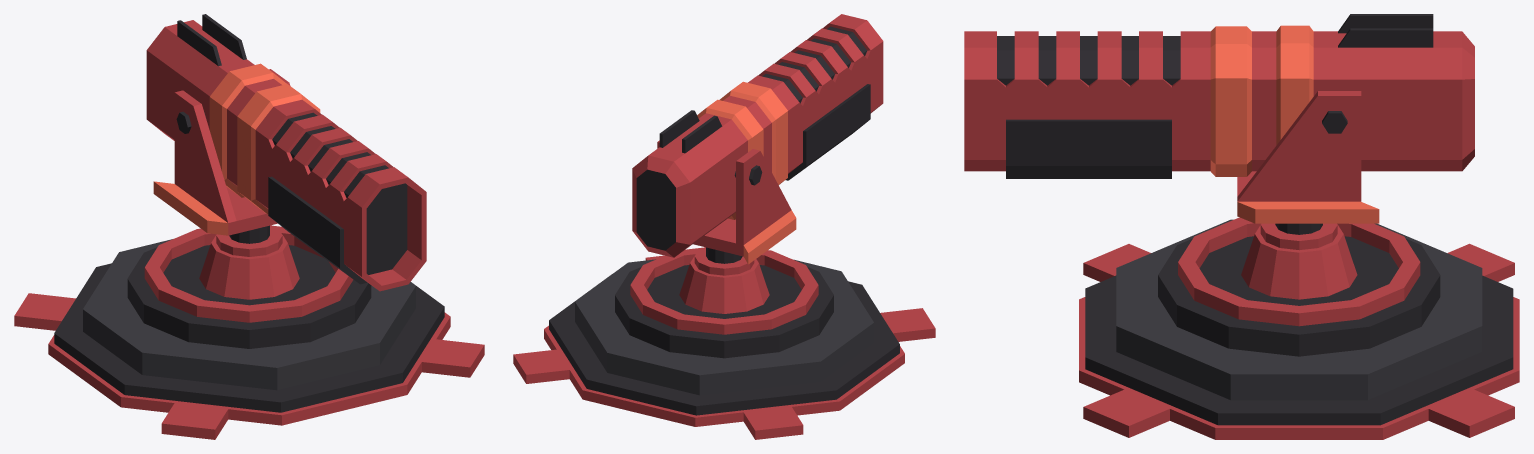
Rendered from upg_scout1.fbx.
3 views of the same model, side by side, from view 1: azimuth 30°, elevation 25°; view 2: azimuth 150°, elevation 25°; view 3: azimuth 270°, elevation 25° (orthographic). The views are drawn at different scales.
Visible parts, largest first — view 1: Cube.002, Cube.001; view 2: Cube.002, Cube.001; view 3: Cube.002, Cube.001.
Part boxes in pixels (x1,y1,x2,y2): Cube.002: [14, 225, 484, 439]; Cube.001: [146, 14, 426, 291]; Cube.002: [513, 247, 935, 439]; Cube.001: [632, 14, 883, 264]; Cube.002: [1079, 217, 1519, 439]; Cube.001: [964, 14, 1474, 234].
Size of the model in its own units: 181 by 147 by 228.
